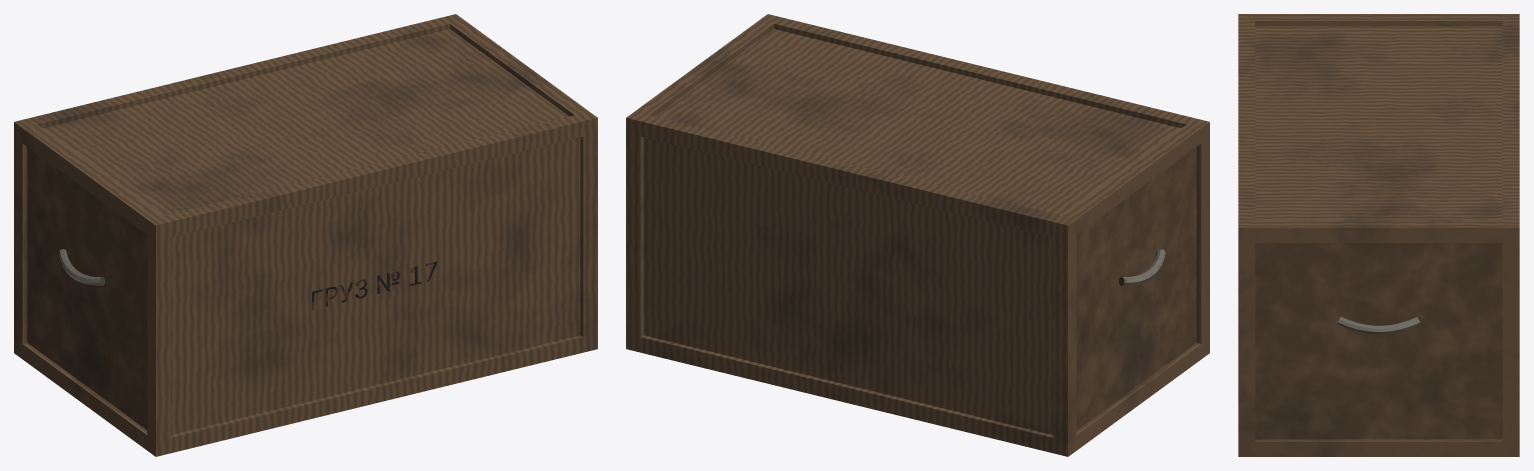
File: SM_Crate_Military_Large.fbx
3 views of the same model, side by side, from view 1: azimuth 30°, elevation 25°; view 2: azimuth 150°, elevation 25°; view 3: azimuth 270°, elevation 25° (orthographic).
Parts seen in each view (by area): view 1: SM_Crate_Military_Large; view 2: SM_Crate_Military_Large; view 3: SM_Crate_Military_Large.
Part boxes in pixels (bbox=[...]): SM_Crate_Military_Large: bbox=[14, 14, 597, 456]; SM_Crate_Military_Large: bbox=[626, 14, 1209, 456]; SM_Crate_Military_Large: bbox=[1238, 14, 1519, 456].
Size of the model in its own units: 0.9556 by 0.45 by 0.5.
Materials: 1 (1 with a texture image).
